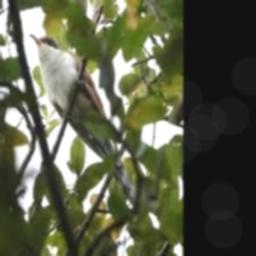Cuckoo: (30, 33, 138, 204)
